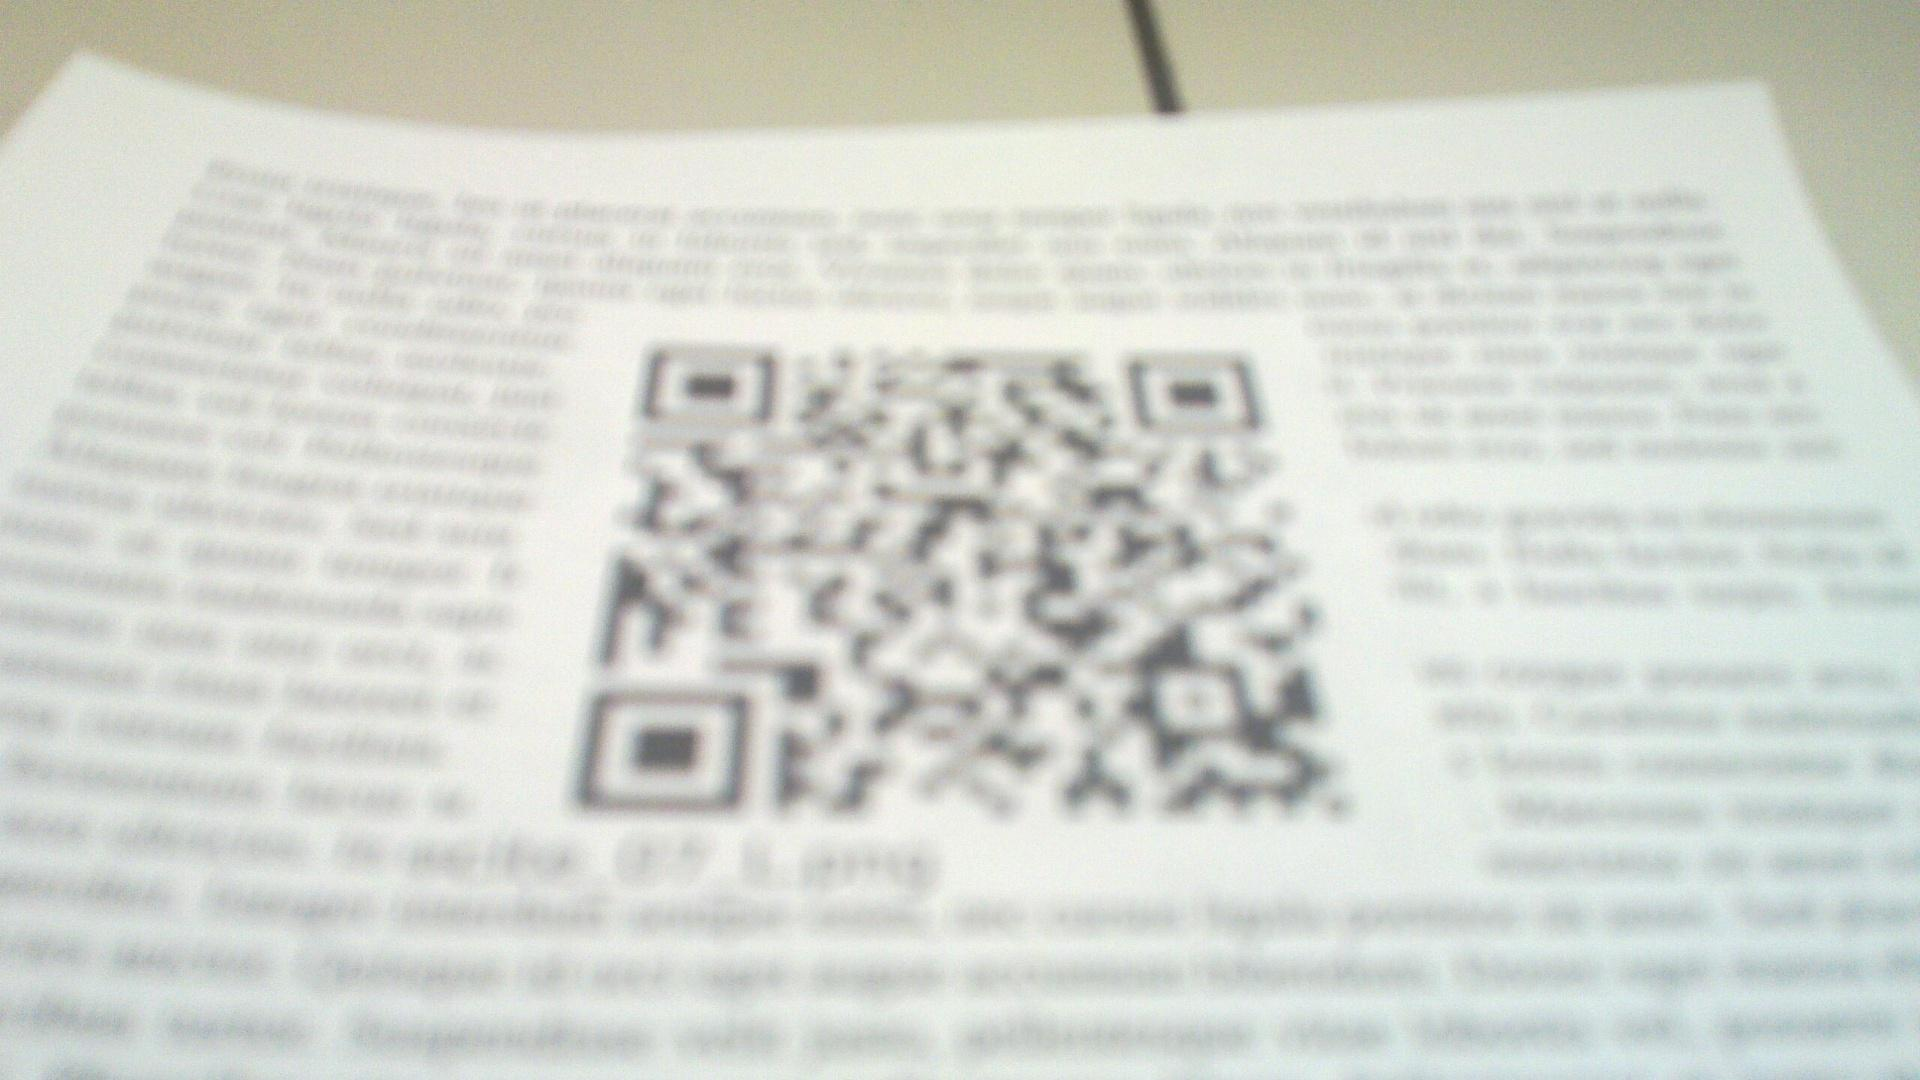qr_code: (574, 345, 1354, 820)
